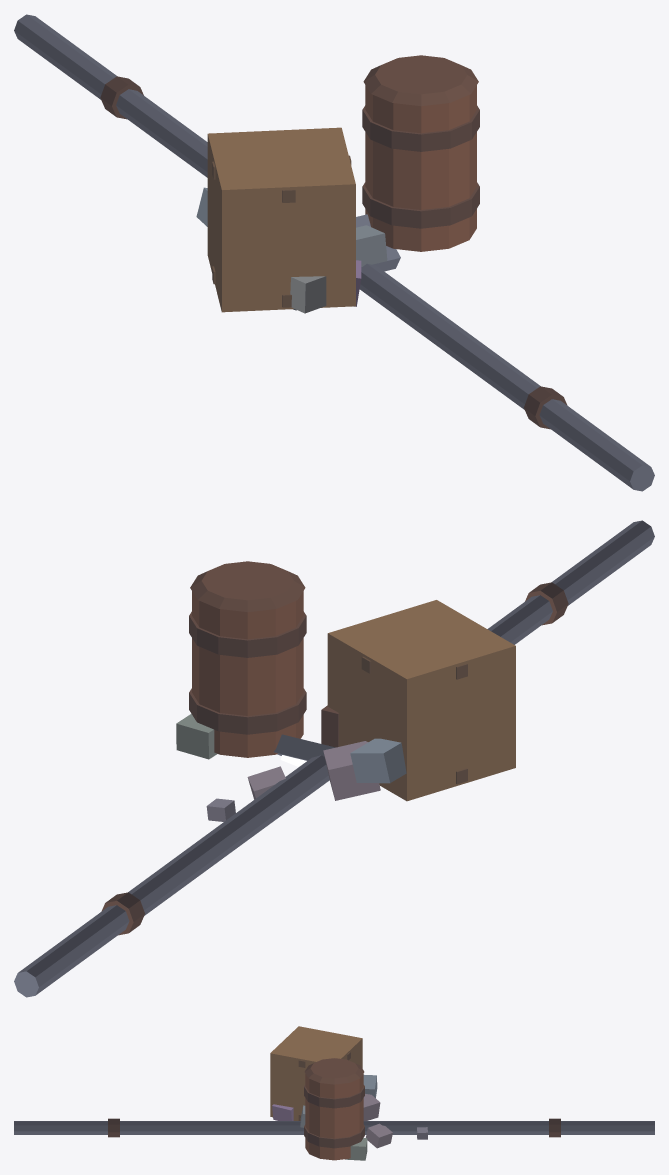
The model's file is environment.glb.
The picture shows the model from 3 angles, top to bottom: view 1: azimuth 30°, elevation 25°; view 2: azimuth 150°, elevation 25°; view 3: azimuth 270°, elevation 25°; orthographic projection. The views are drawn at different scales.
Parts seen in each view (by area): view 1: cluster, conduit; view 2: cluster, conduit, lamp_body; view 3: cluster, conduit.
Boxes of the visible parts, <box> form: cluster: <box>196,55,479,313</box>; conduit: <box>14,14,654,491</box>; cluster: <box>176,561,515,821</box>; conduit: <box>14,520,654,997</box>; lamp_body: <box>274,705,338,760</box>; cluster: <box>270,1026,427,1160</box>; conduit: <box>14,1118,654,1137</box>.
Bounding box in the file's own units: 1.71 × 1.02 × 6.4.
